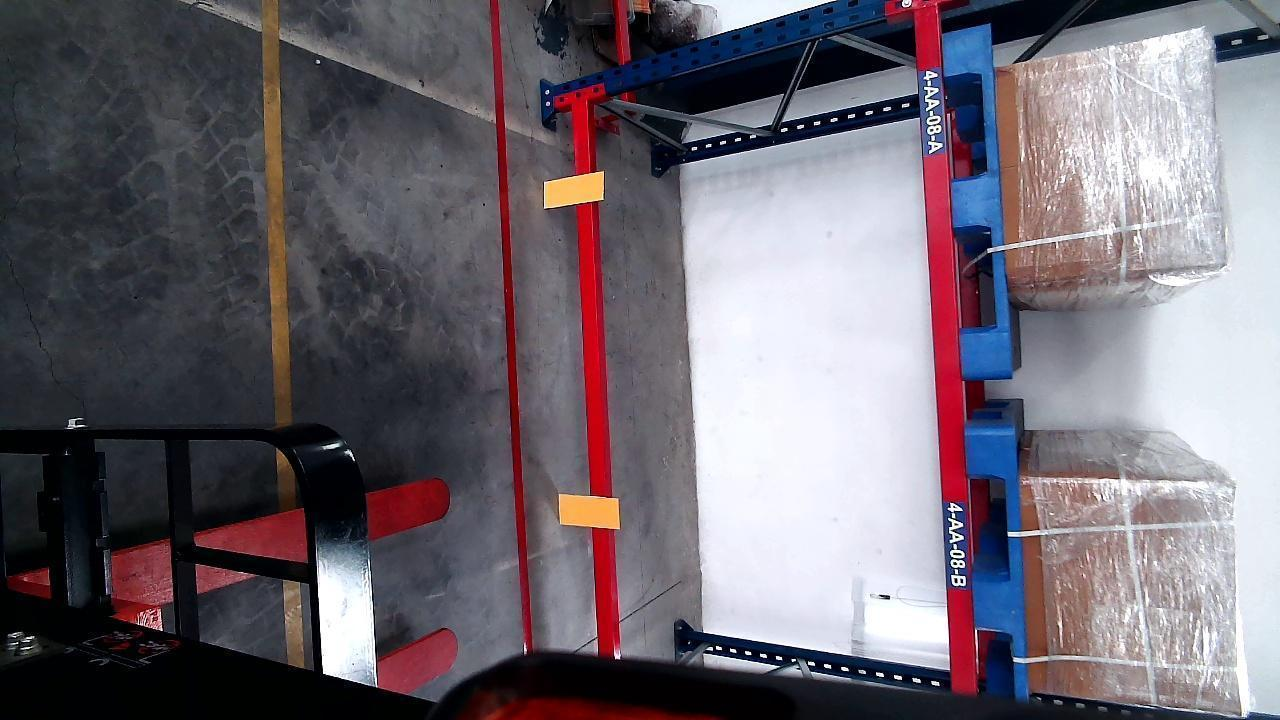red_line: (484, 0, 537, 654)
yellow_line: (263, 0, 292, 415)
